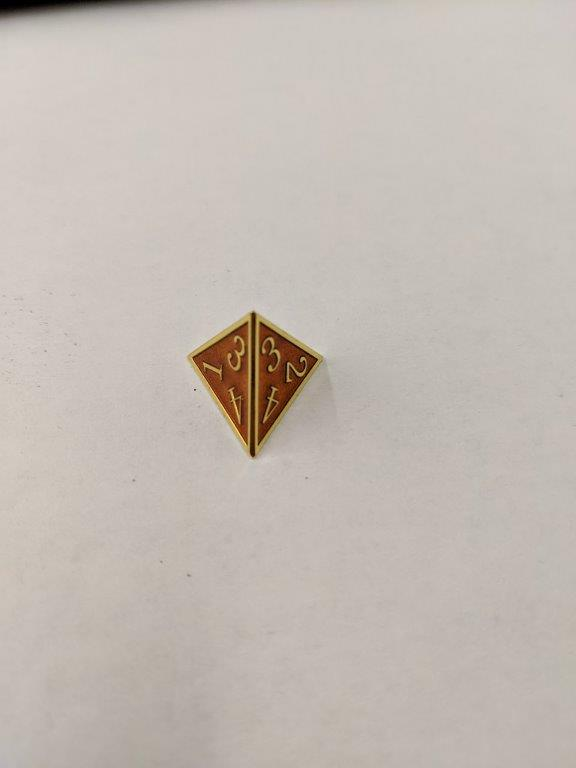d4-3: (182, 308, 325, 461)
